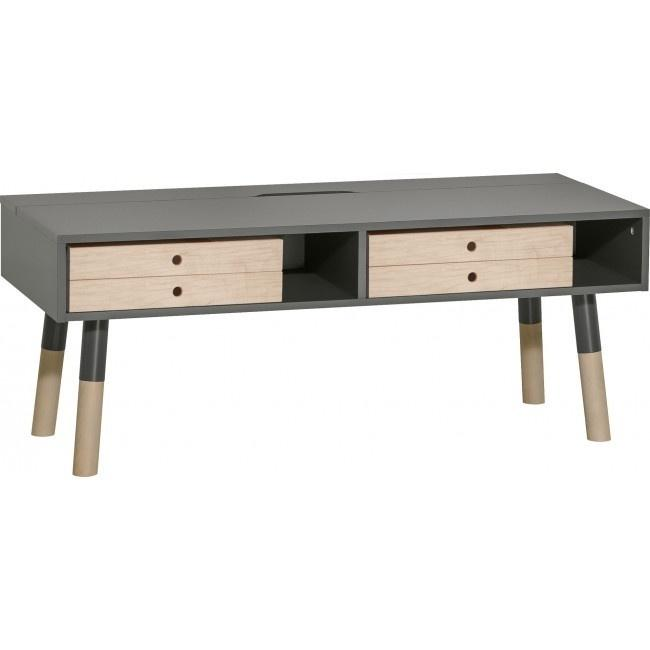cabinet_door: (365, 263, 570, 295), (368, 231, 573, 262), (73, 245, 283, 275), (73, 279, 284, 308)
handle: (465, 240, 479, 256), (171, 253, 186, 267), (466, 271, 478, 285), (173, 285, 185, 299)
